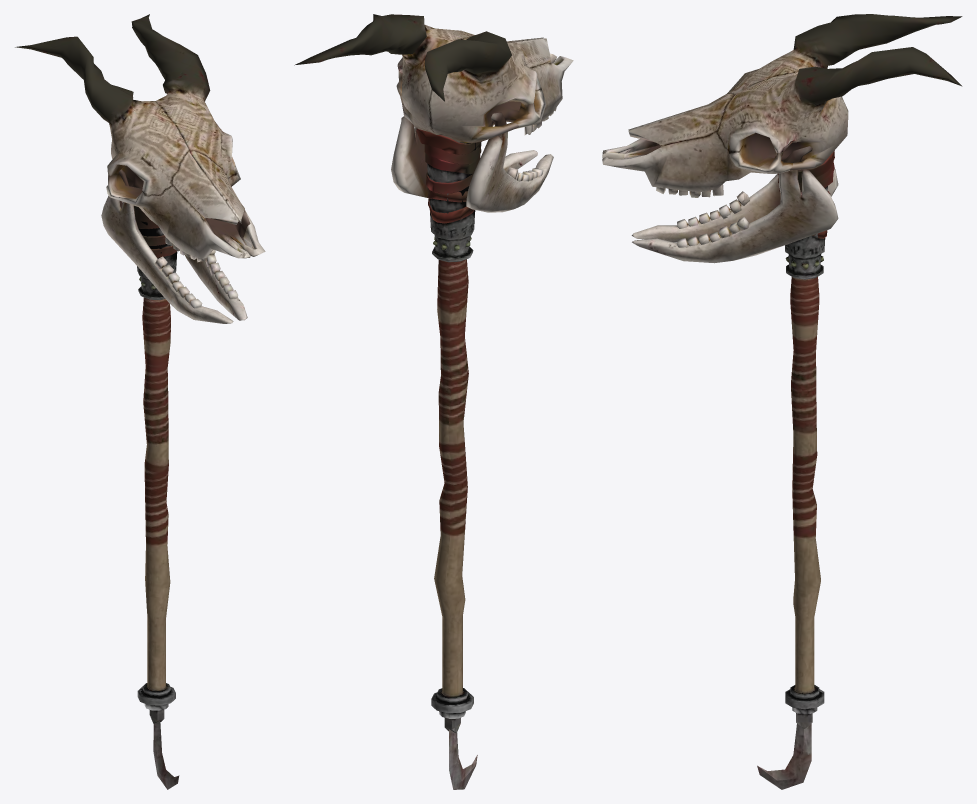
File: staff.glb
3 views of the same model, side by side, from view 1: azimuth 30°, elevation 25°; view 2: azimuth 150°, elevation 25°; view 3: azimuth 270°, elevation 25° (orthographic). The views are drawn at different scales.
Visible parts, largest first — view 1: g (×5); view 2: g (×5); view 3: g (×5).
Boxes of the visible parts, x1,y1,x2,y2 form: g (×5): [15, 14, 265, 789]; g (×5): [294, 14, 573, 789]; g (×5): [602, 14, 962, 789].
Size of the model in its own units: 0.3971 by 2 by 0.8623.
2 materials, 2 textured.
